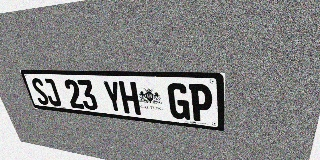2: (63, 79, 85, 109)
3: (77, 80, 99, 110)
G: (167, 83, 190, 120)
H: (118, 81, 141, 115)
J: (41, 78, 62, 107)
P: (189, 84, 212, 122)
S: (30, 78, 51, 105)
Y: (102, 81, 124, 113)
